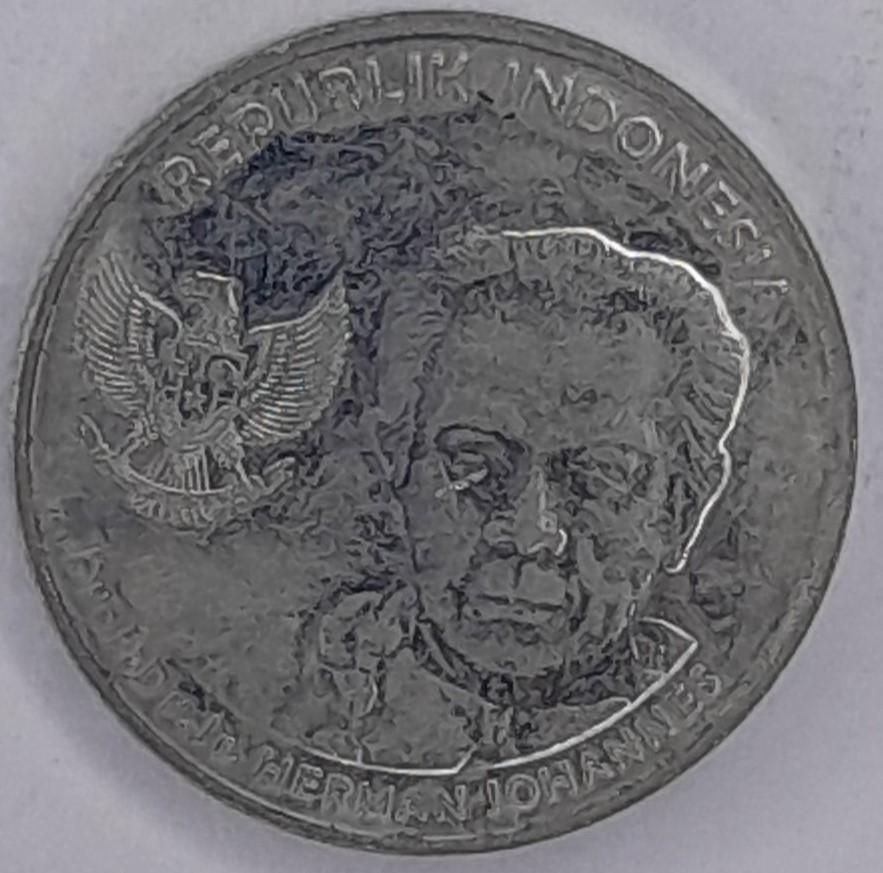coin_100_e2016: (4, 4, 864, 859)
